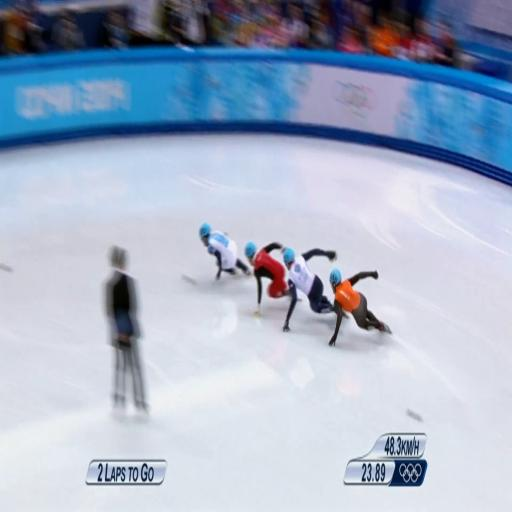Skater: (330, 269, 391, 346), (283, 248, 336, 331), (245, 242, 289, 317), (200, 223, 251, 279)
